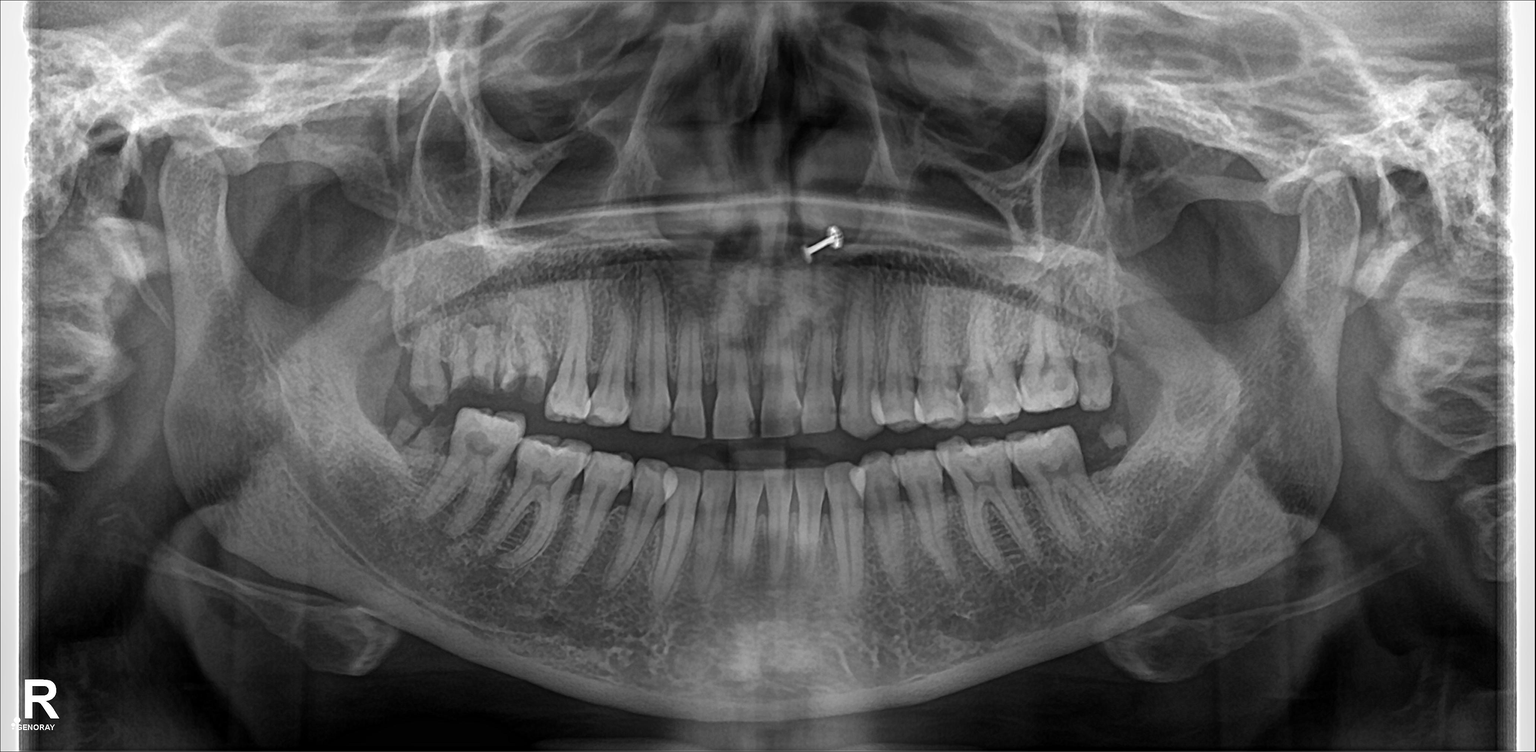Dental Caries: (950, 348, 986, 399), (507, 367, 545, 407), (464, 426, 499, 463), (460, 363, 498, 395)
Missing Tooth: (372, 287, 411, 395)
Retained Root: (387, 404, 453, 484), (410, 305, 453, 407), (1082, 419, 1137, 469)
Tooth Fracture: (507, 305, 554, 411), (456, 305, 498, 396)
